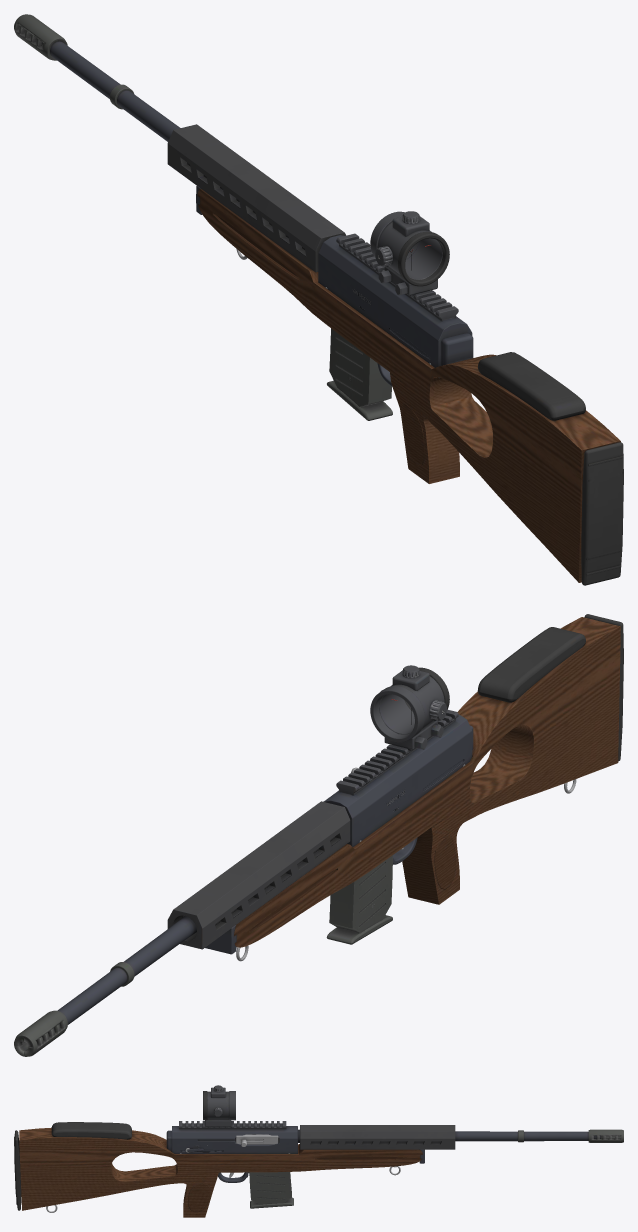
Rendered from dmr.glb.
3 views of the same model, one above another, from view 1: azimuth 30°, elevation 25°; view 2: azimuth 150°, elevation 25°; view 3: azimuth 270°, elevation 25° (orthographic). The views are drawn at different scales.
Parts seen in each view (by area): view 1: body, mag; view 2: body, mag; view 3: body, mag, slide.
Boxes of the visible parts, x1,y1,x2,y2 form: body: (14,14,623,585); mag: (327,328,392,420); body: (14,614,623,1056); mag: (326,855,392,944); body: (14,1085,623,1217); mag: (248,1172,293,1208); slide: (236,1134,279,1146).
Size of the model in its own units: 0.0693 by 0.2442 by 1.07.
14 materials, 14 textured.
